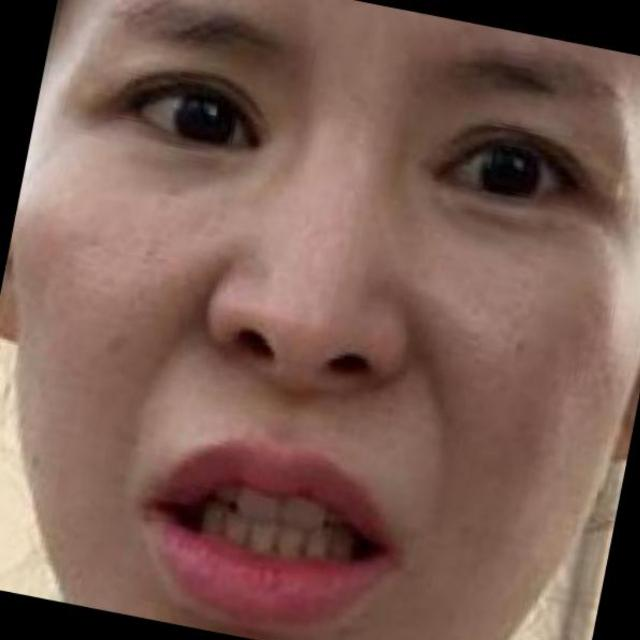Angry: (55, 15, 640, 640)
